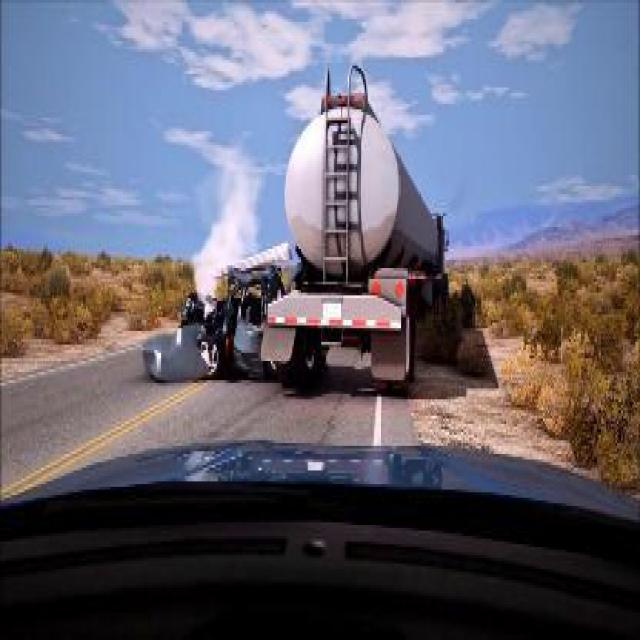accident: (145, 58, 452, 396)
